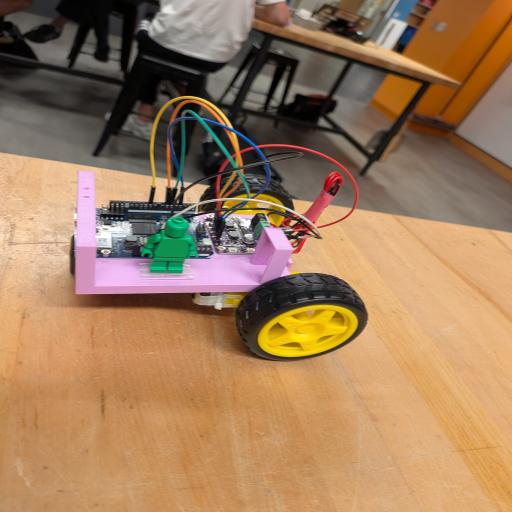Minifig: (141, 217, 197, 273)
